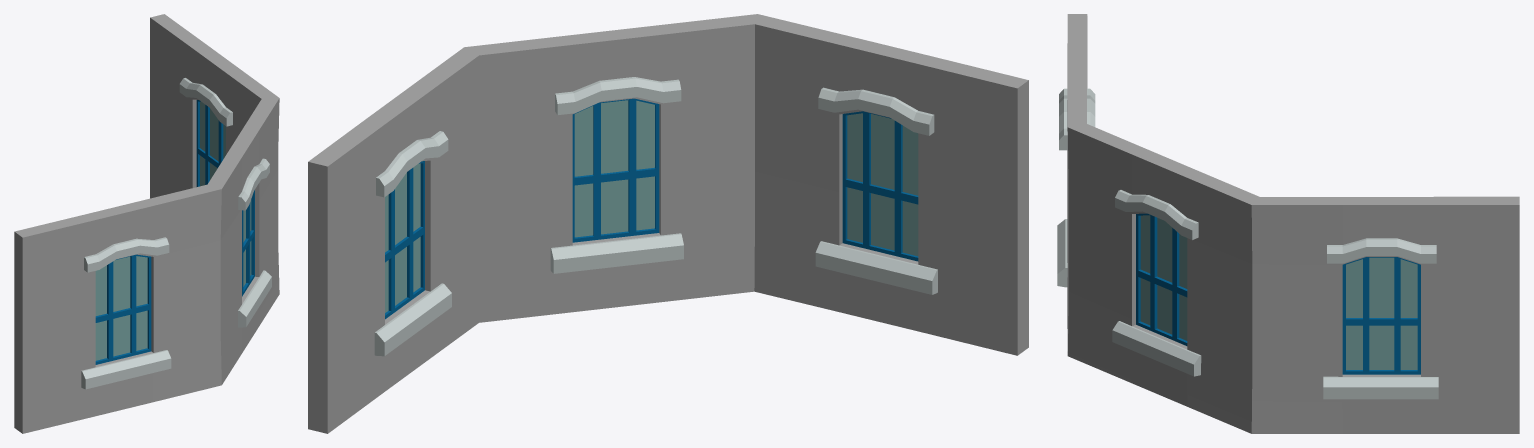
Rendered from NY_Street_Window_Building_Bevel_A.fbx.
The picture shows the model from 3 angles, left to right: view 1: azimuth 30°, elevation 25°; view 2: azimuth 150°, elevation 25°; view 3: azimuth 270°, elevation 25°; orthographic projection. The views are drawn at different scales.
Parts seen in each view (by area): view 1: NY_Street_Window_Building_Bevel_A; view 2: NY_Street_Window_Building_Bevel_A; view 3: NY_Street_Window_Building_Bevel_A.
Part boxes in pixels (x1=…): NY_Street_Window_Building_Bevel_A: x1=14, y1=14, x2=279, y2=433; NY_Street_Window_Building_Bevel_A: x1=308, y1=14, x2=1028, y2=433; NY_Street_Window_Building_Bevel_A: x1=1057, y1=14, x2=1519, y2=433.
Size of the model in its own units: 732 by 400 by 732.
